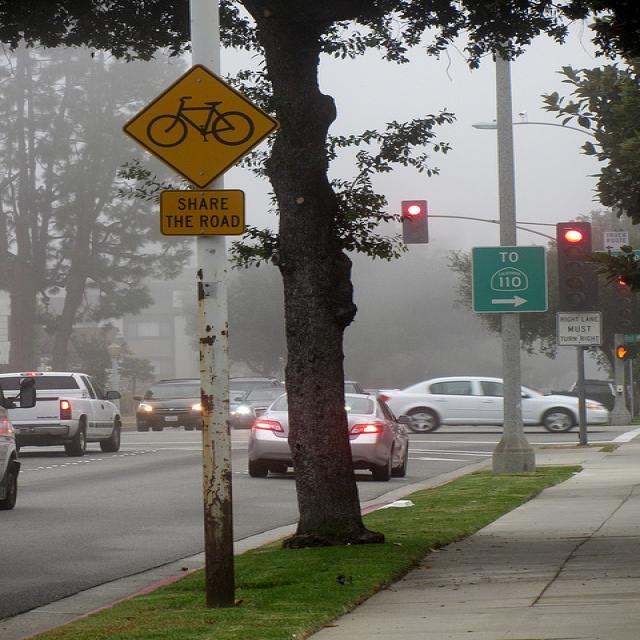Vehicle: (249, 390, 413, 480), (376, 378, 612, 432), (0, 371, 124, 456), (1, 379, 39, 509), (134, 380, 200, 430), (230, 387, 288, 428), (569, 378, 616, 411), (228, 377, 286, 390), (230, 390, 248, 415)
